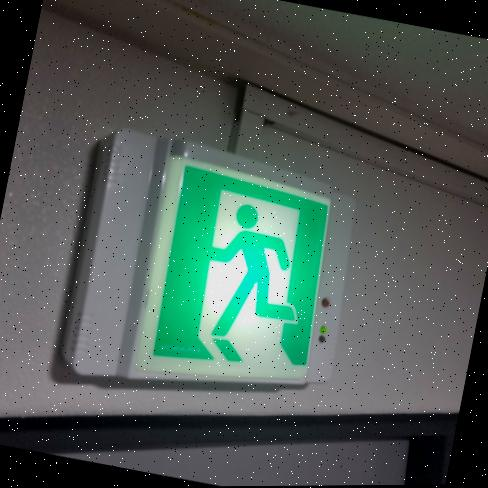emergency_exit: (126, 152, 332, 385)
